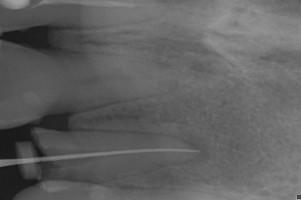Furcation Involvement: (182, 134, 210, 163)
